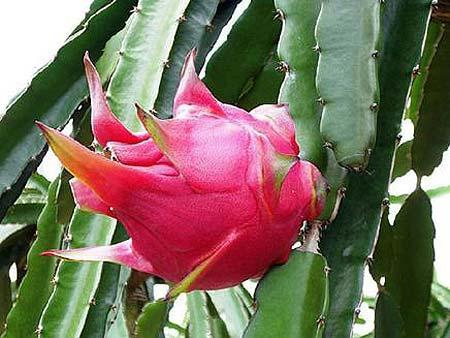dragon-fruit: (97, 100, 329, 294)
